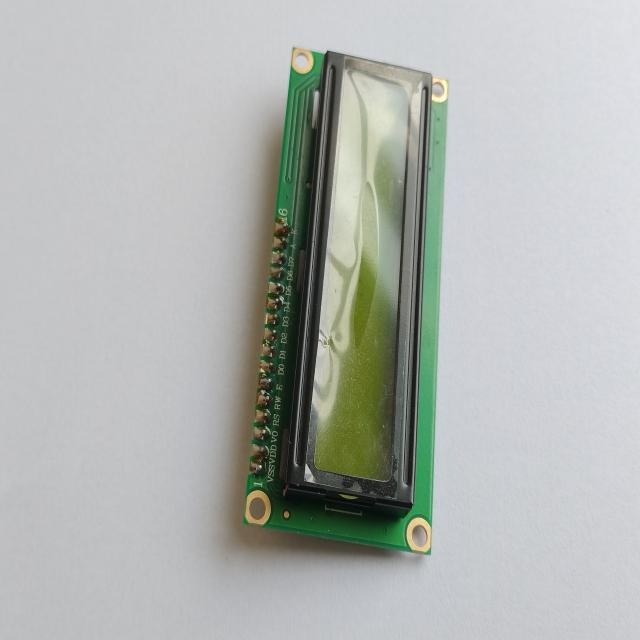lcd: (241, 45, 449, 556)
